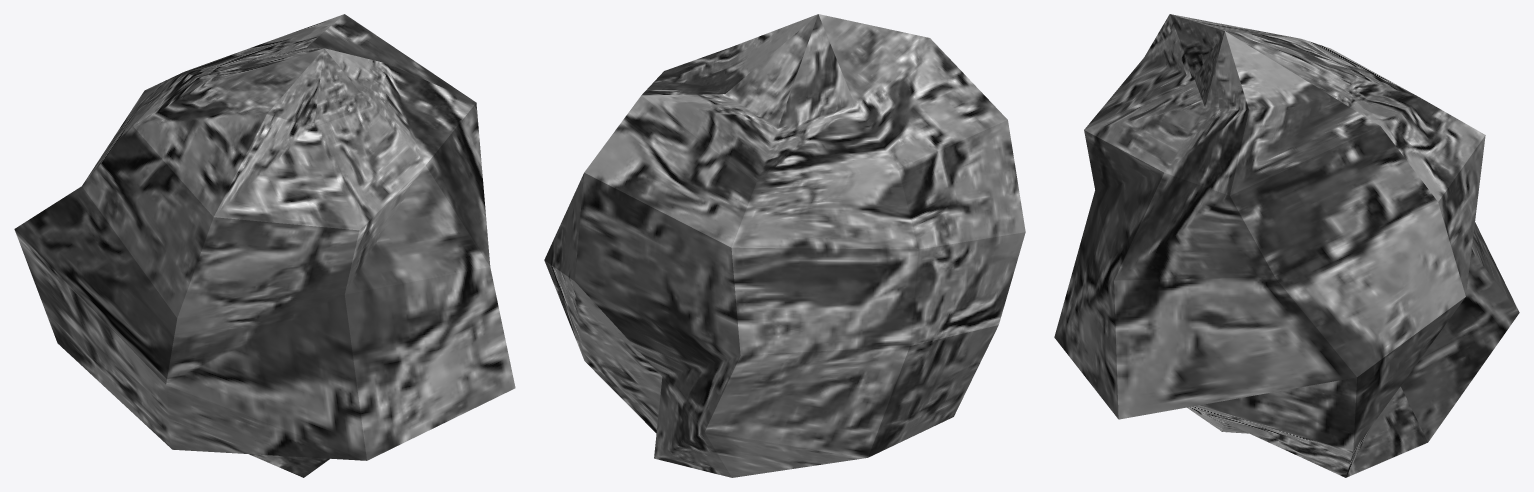
The model's file is boulder_1.fbx.
3 renders of one model, left to right at view 1: azimuth 30°, elevation 25°; view 2: azimuth 150°, elevation 25°; view 3: azimuth 270°, elevation 25°, orthographic. The views are drawn at different scales.
Parts seen in each view (by area): view 1: boulder; view 2: boulder; view 3: boulder.
Part boxes in pixels (left/top/right/bottom): boulder: left=14, top=14, right=515, bottom=477; boulder: left=544, top=14, right=1025, bottom=477; boulder: left=1054, top=14, right=1519, bottom=477.
Size of the model in its own units: 197 by 193 by 198.
1 material, 1 textured.
